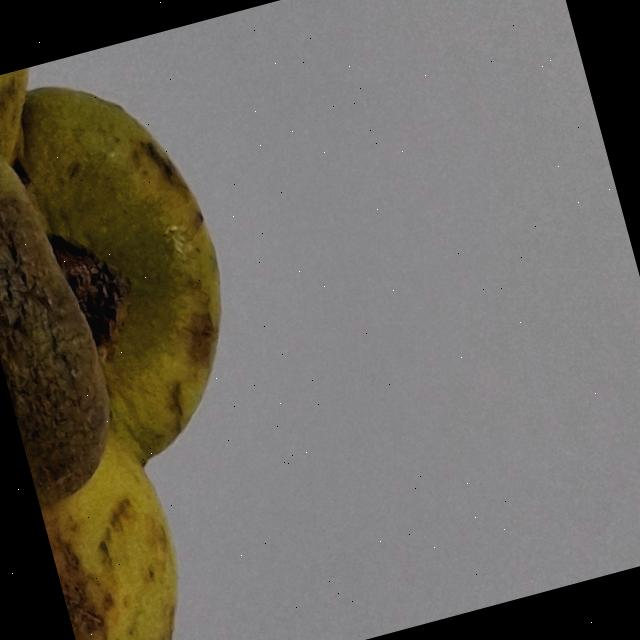mangosteen: (0, 26, 345, 640)
